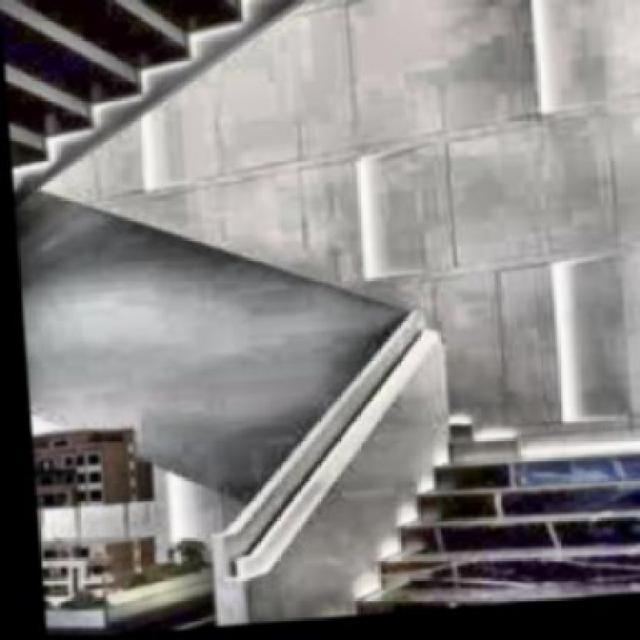stair: (380, 437, 638, 617)
